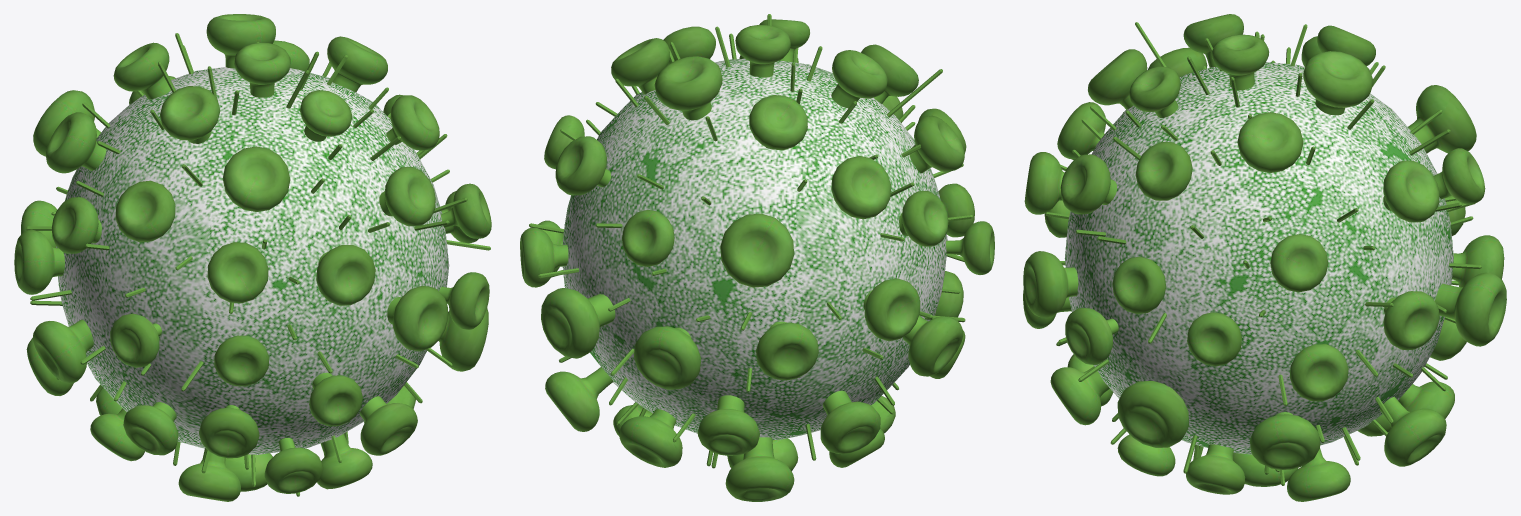
File: HIV2.fbx
The picture shows the model from 3 angles, left to right: view 1: azimuth 30°, elevation 25°; view 2: azimuth 150°, elevation 25°; view 3: azimuth 270°, elevation 25°; orthographic projection. The views are drawn at different scales.
Visible parts, largest first — view 1: polySurface247; view 2: polySurface247; view 3: polySurface247.
Boxes of the visible parts, x1,y1,x2,y2 form: polySurface247: [14, 14, 491, 501]; polySurface247: [520, 14, 994, 501]; polySurface247: [1023, 14, 1506, 501].
Size of the model in its own units: 6.65 by 6.73 by 6.71.
